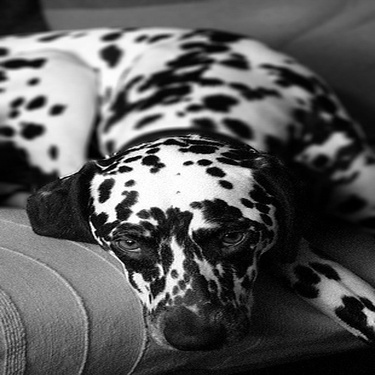dog: (3, 20, 373, 373)
